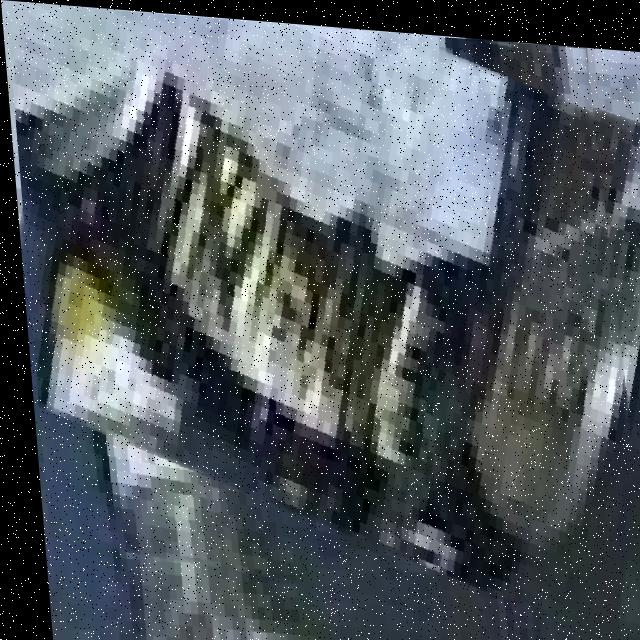can: (14, 5, 624, 625)
